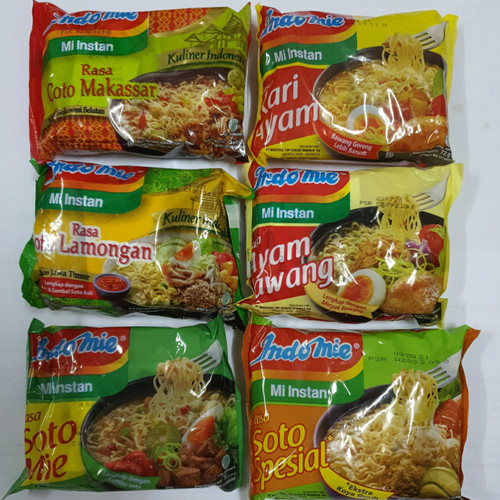Indomie Ayam Bawang (69g): (244, 154, 454, 322)
